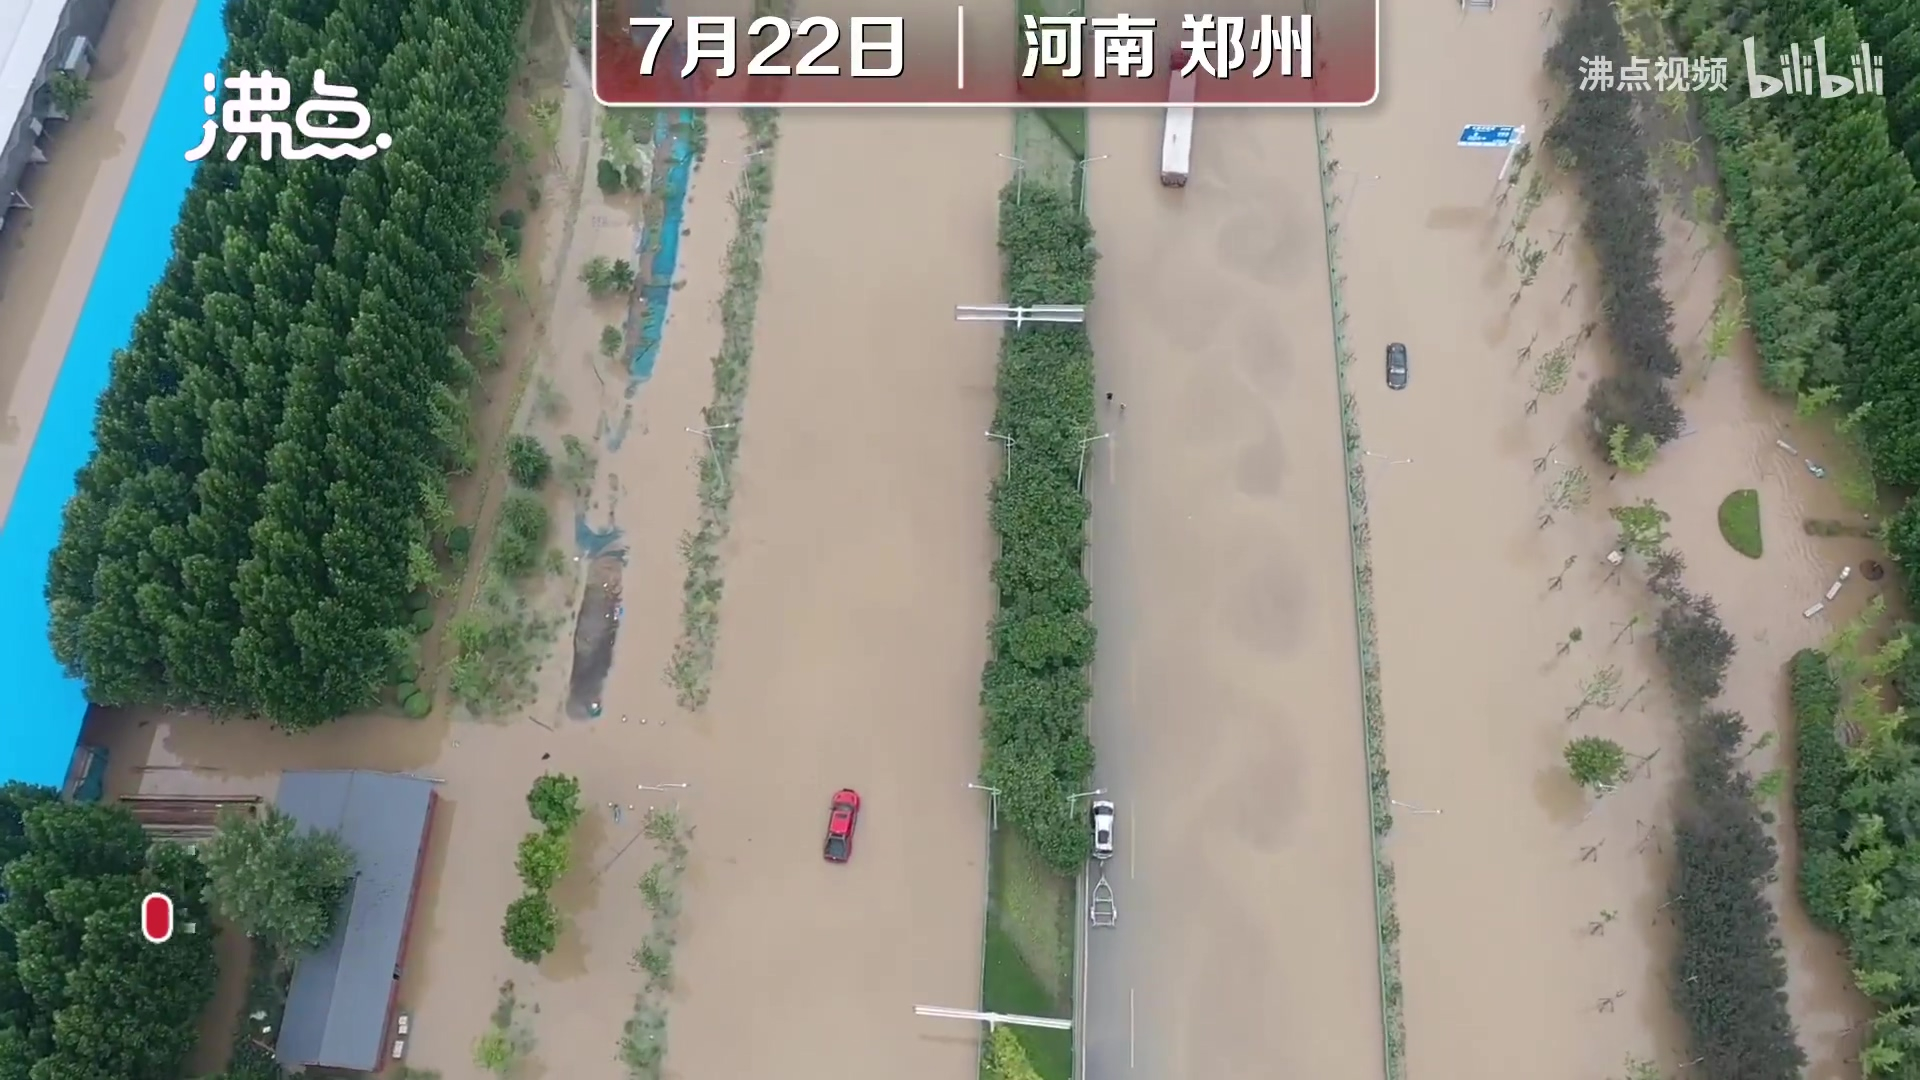puddle: (1069, 171, 1712, 1080), (580, 170, 1010, 1080)
